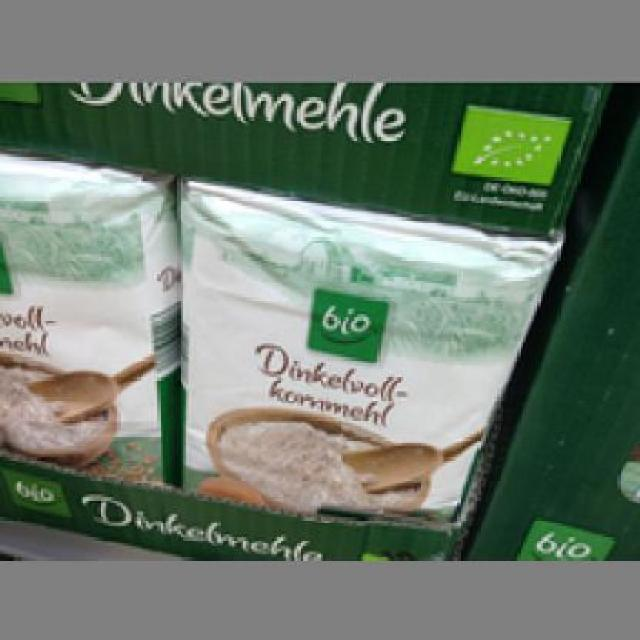Flour: (172, 180, 558, 526), (0, 146, 177, 483)
